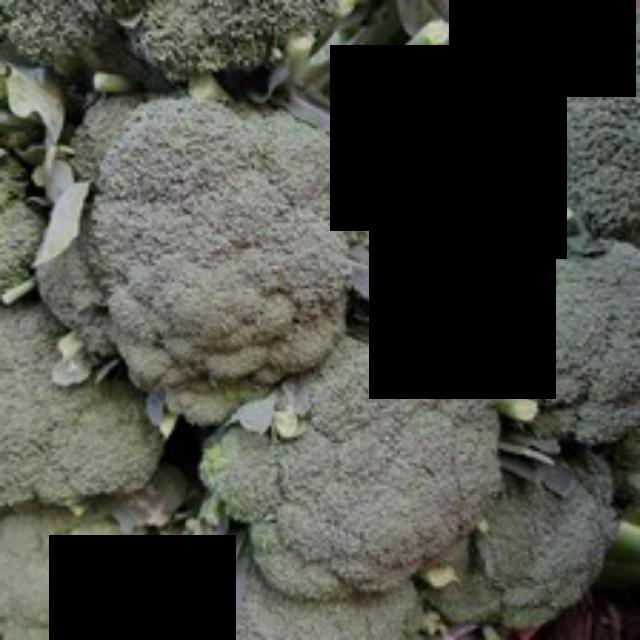broccoli: (68, 85, 363, 401)
